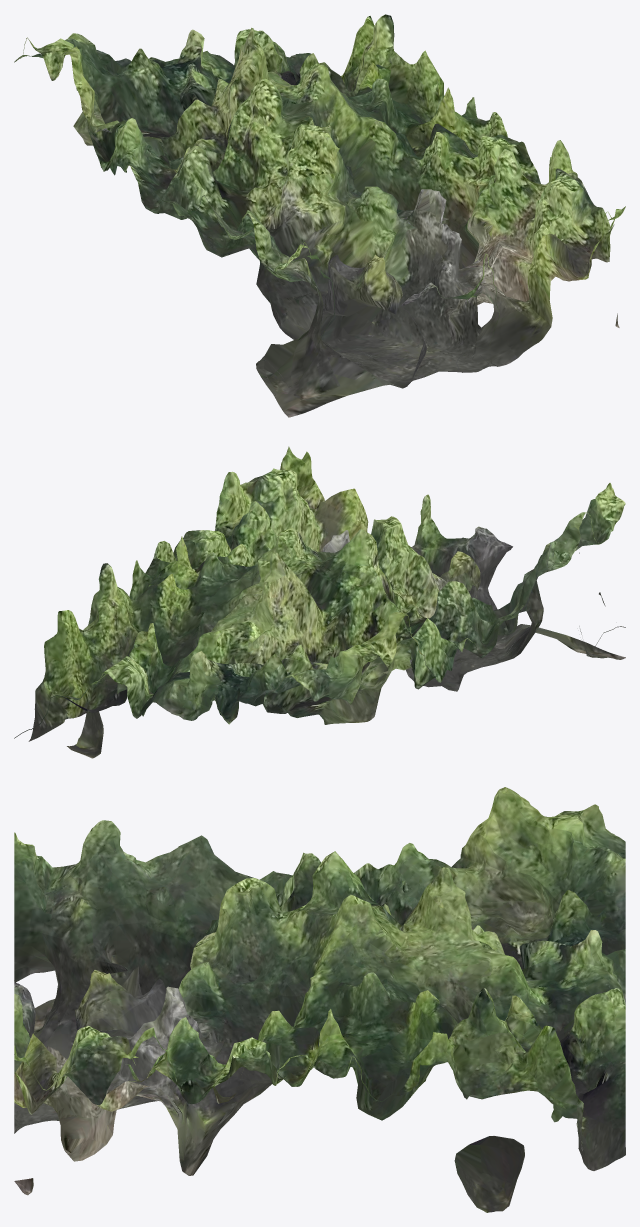
Rendered from Block_L21_786.glb.
The picture shows the model from 3 angles, top to bottom: view 1: azimuth 30°, elevation 25°; view 2: azimuth 150°, elevation 25°; view 3: azimuth 270°, elevation 25°; orthographic projection. The views are drawn at different scales.
Visible parts, largest first — view 1: rtc; view 2: rtc; view 3: rtc.
Part boxes in pixels (x1=…): rtc: x1=14, y1=14, x2=625, y2=417; rtc: x1=14, y1=446, x2=625, y2=758; rtc: x1=14, y1=787, x2=625, y2=1212.
Size of the model in its own units: 13.61 by 8.64 by 19.22.
5 materials, 5 textured.
